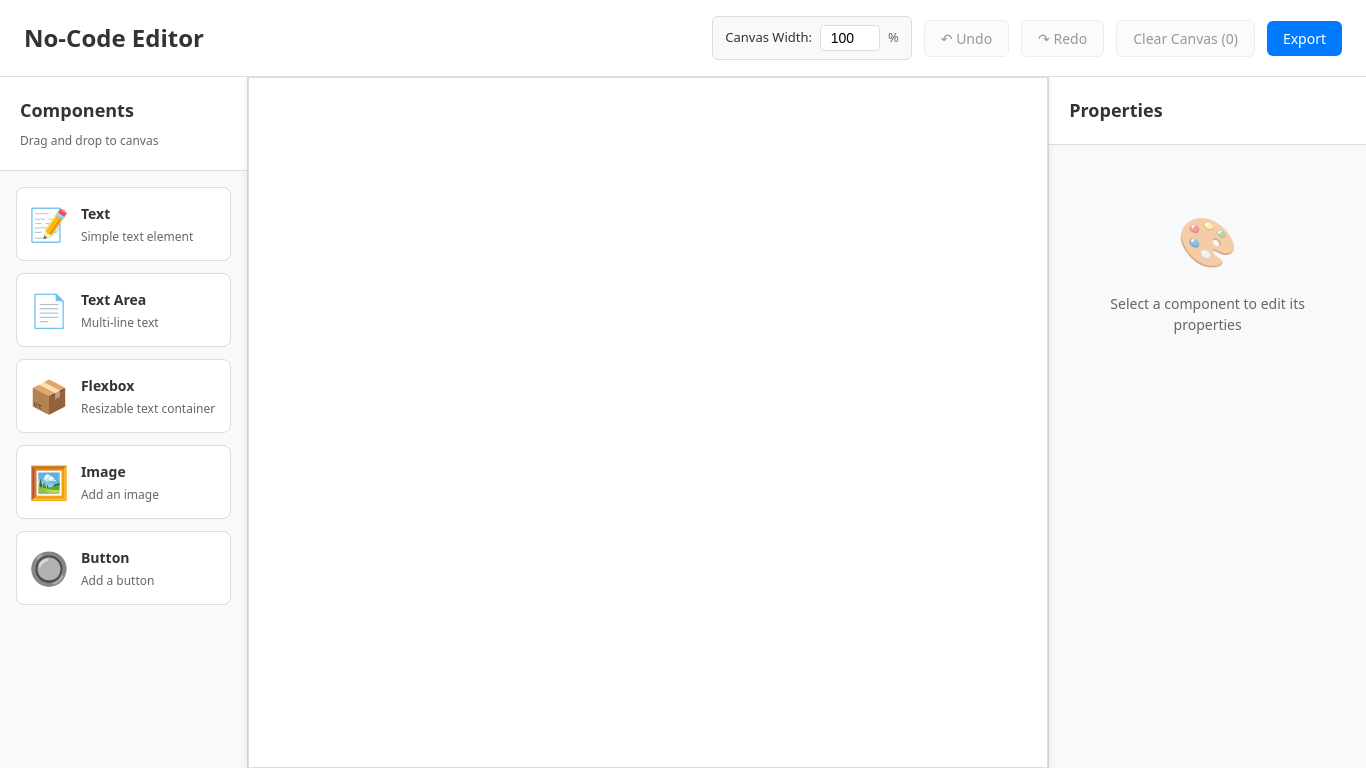
Test case: App Component › Canvas Width Configuration › validates canvas width on blur (min 10)
The width and height of the screenshot is (1366, 768).
Replace the text in the number field showing "100" with "5" at (850, 38), box [820,25,880,51]
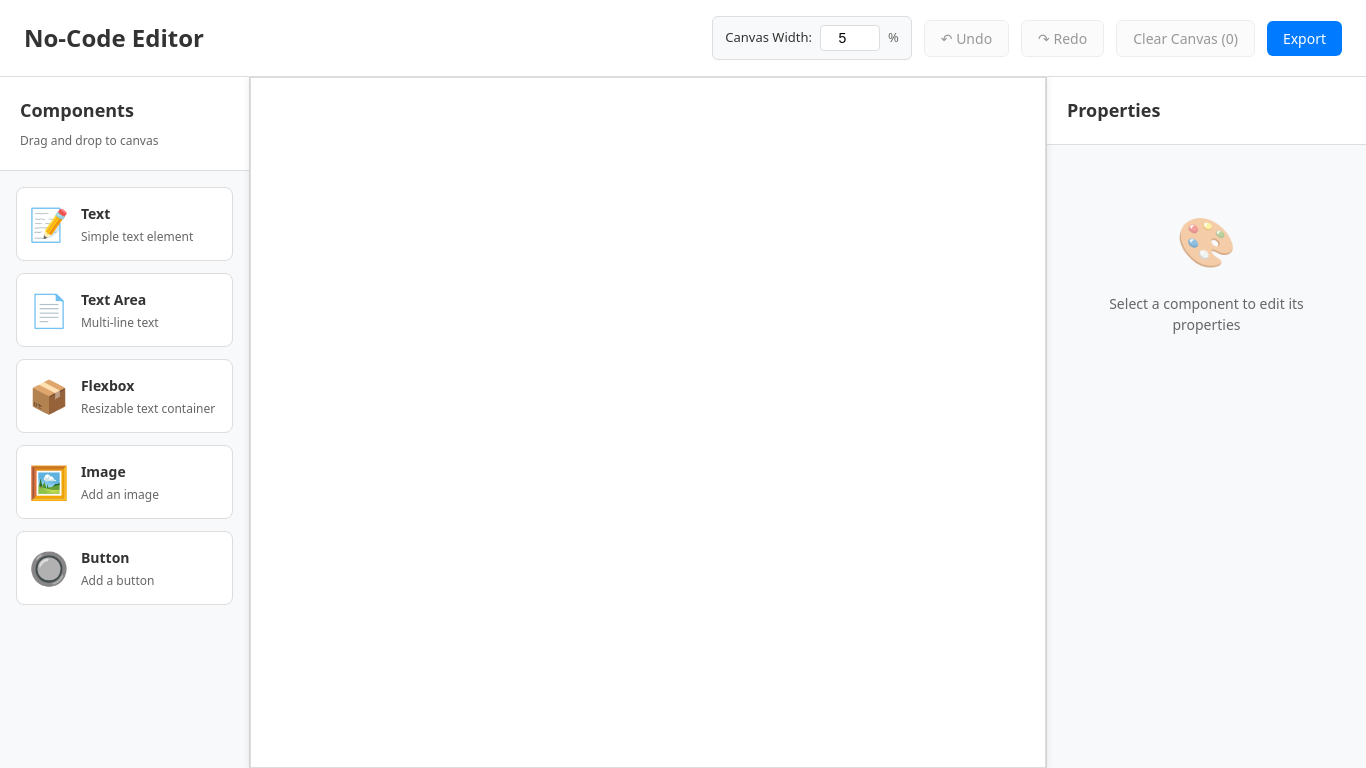
Leave the number field showing "100", box [820,25,880,51]
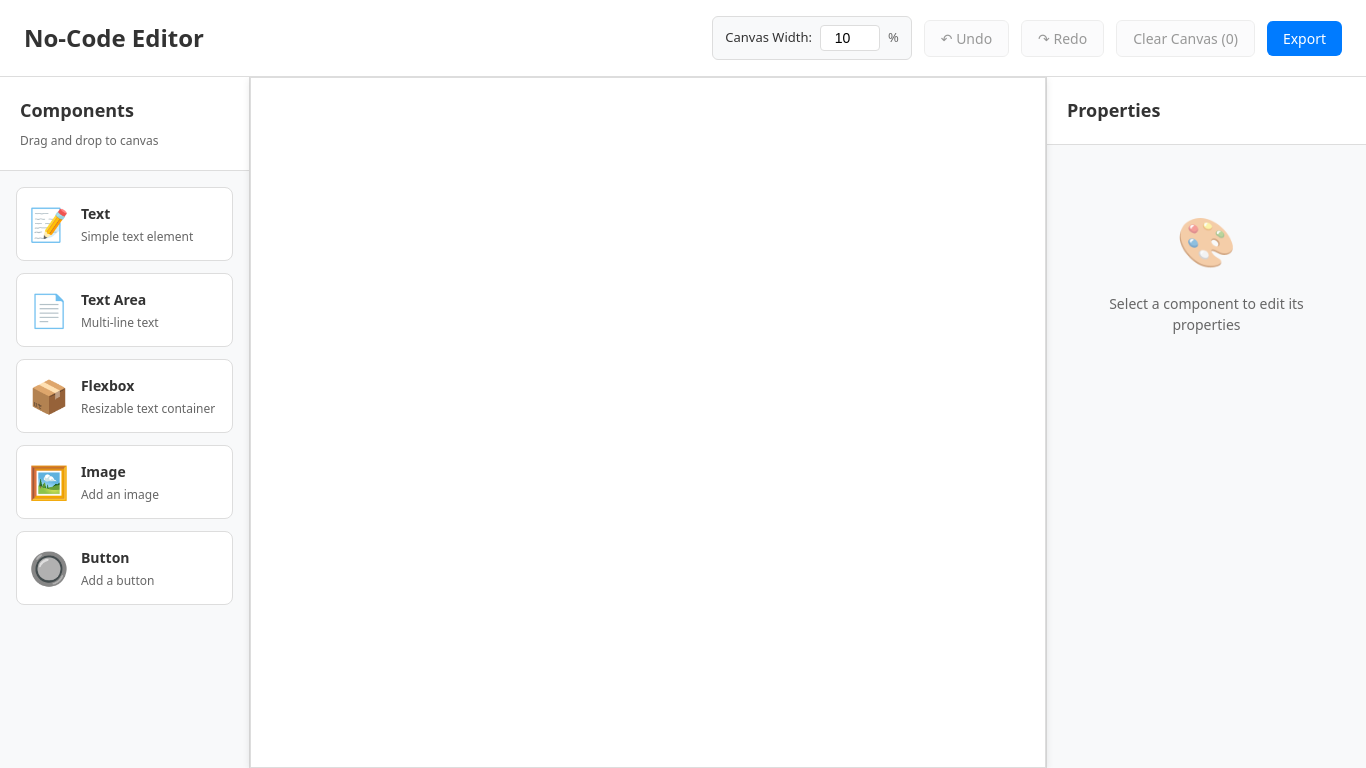
Expected: the number field showing "100" holds "10", [820,25,880,51]
